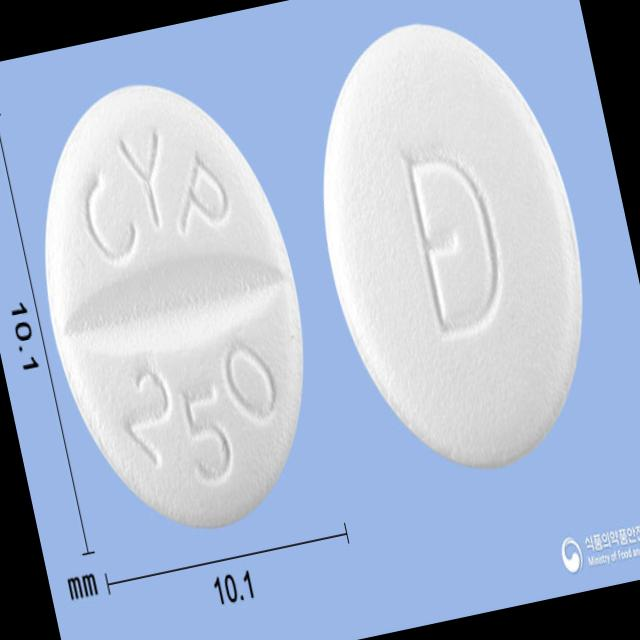Bearcin - 500mg: (3, 57, 347, 558)
